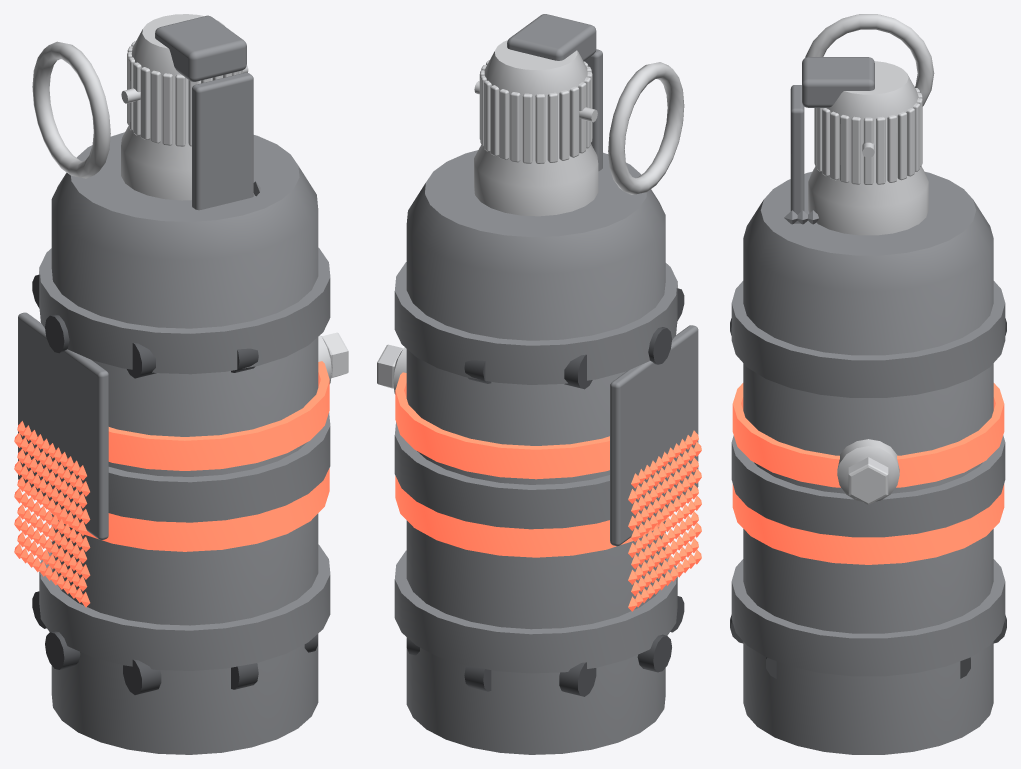
File: mega-weapon-pack-flash-grenade-8113026b__33357.glb
The picture shows the model from 3 angles, left to right: view 1: azimuth 30°, elevation 25°; view 2: azimuth 150°, elevation 25°; view 3: azimuth 270°, elevation 25°; orthographic projection. The views are drawn at different scales.
Parts seen in each view (by area): view 1: flash-grenade; view 2: flash-grenade; view 3: flash-grenade.
Part boxes in pixels (bbox=[...]): flash-grenade: bbox=[14, 14, 348, 754]; flash-grenade: bbox=[377, 14, 701, 754]; flash-grenade: bbox=[730, 14, 1006, 754].
Bounding box in the file's own units: 0.0605 × 0.1345 × 0.053.
